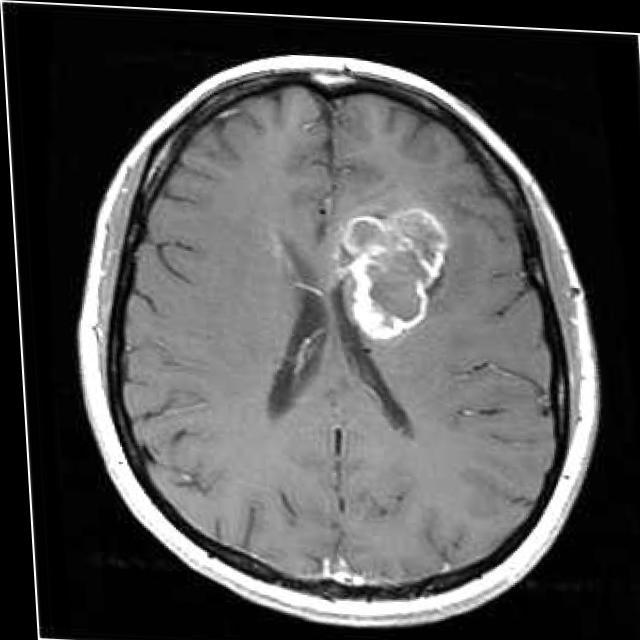Tumor: (337, 207, 441, 334)
